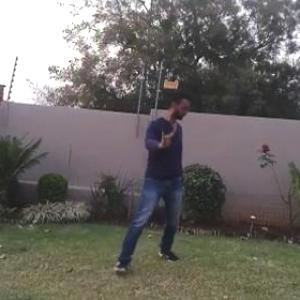takeoff-hand: (151, 120, 179, 154)
